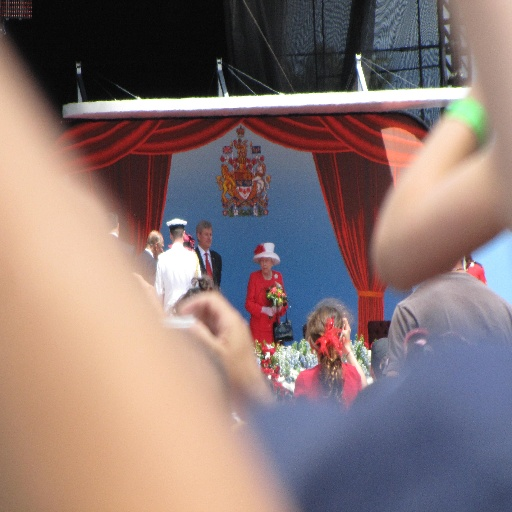hand: (170, 284, 266, 397), (134, 271, 162, 320), (338, 316, 351, 352), (266, 305, 273, 317), (272, 305, 276, 314)
